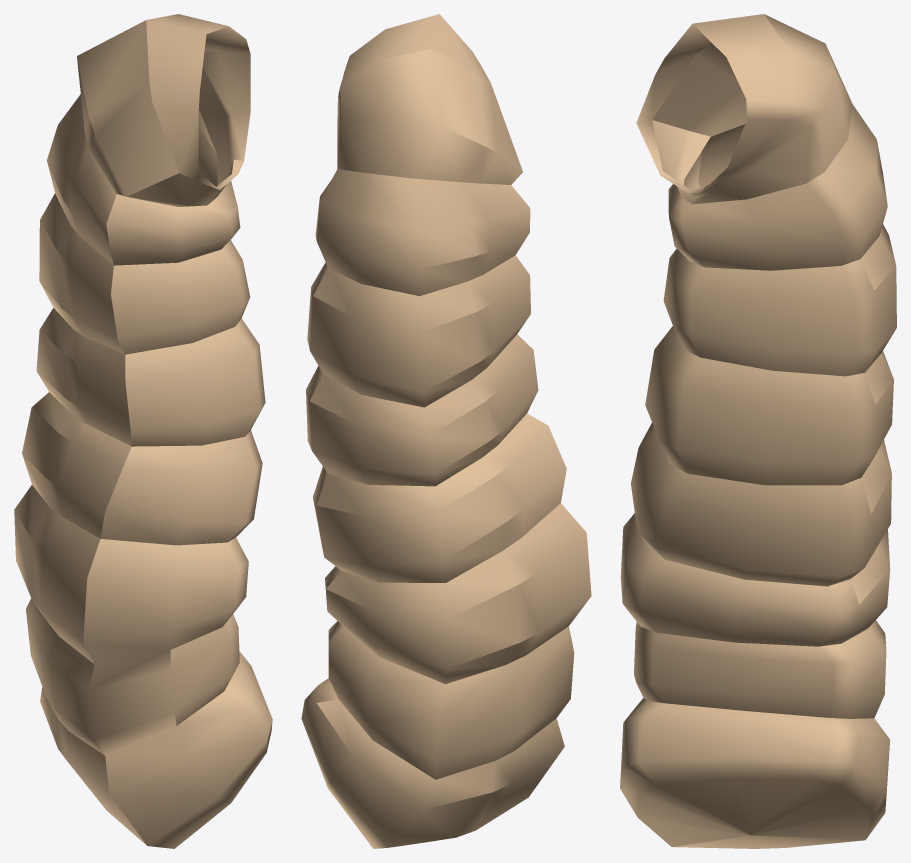
Rendered from colon_ascendente.glb.
The picture shows the model from 3 angles, left to right: view 1: azimuth 30°, elevation 25°; view 2: azimuth 150°, elevation 25°; view 3: azimuth 270°, elevation 25°; orthographic projection. The views are drawn at different scales.
Visible parts, largest first — view 1: colon_ascendente; view 2: colon_ascendente; view 3: colon_ascendente.
Part boxes in pixels (bbox=[...]): colon_ascendente: bbox=[14, 14, 272, 848]; colon_ascendente: bbox=[301, 14, 591, 848]; colon_ascendente: bbox=[620, 14, 896, 848].
Bounding box in the file's own units: 0.0538 × 0.1961 × 0.0582.
